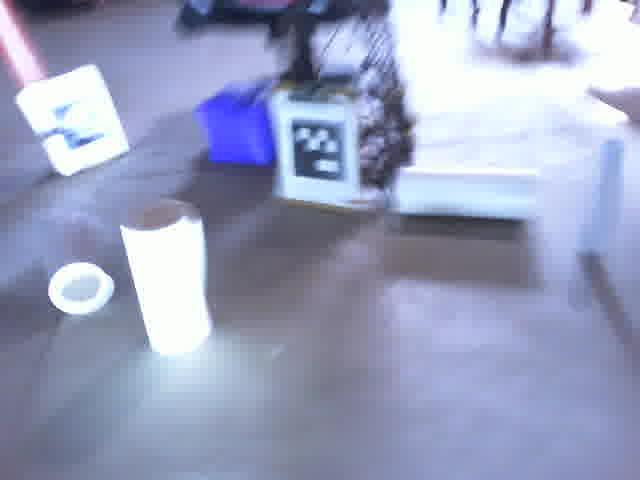coral: (115, 194, 221, 375), (388, 160, 554, 226), (33, 221, 113, 320)
